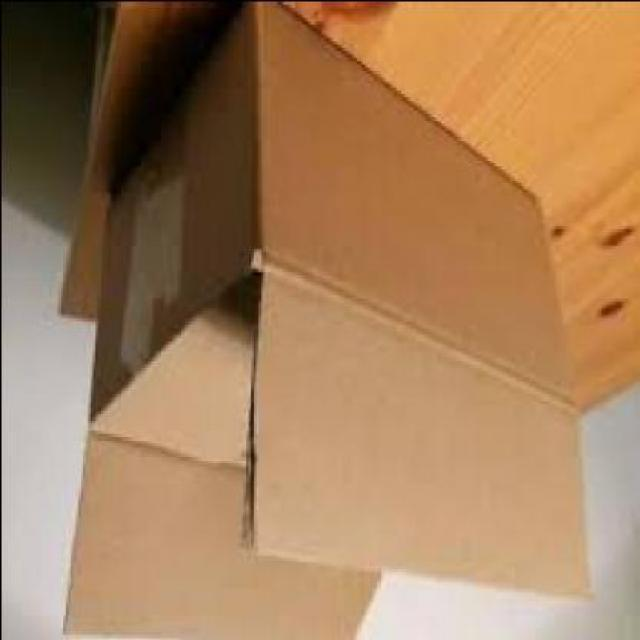box: (56, 3, 590, 639)
